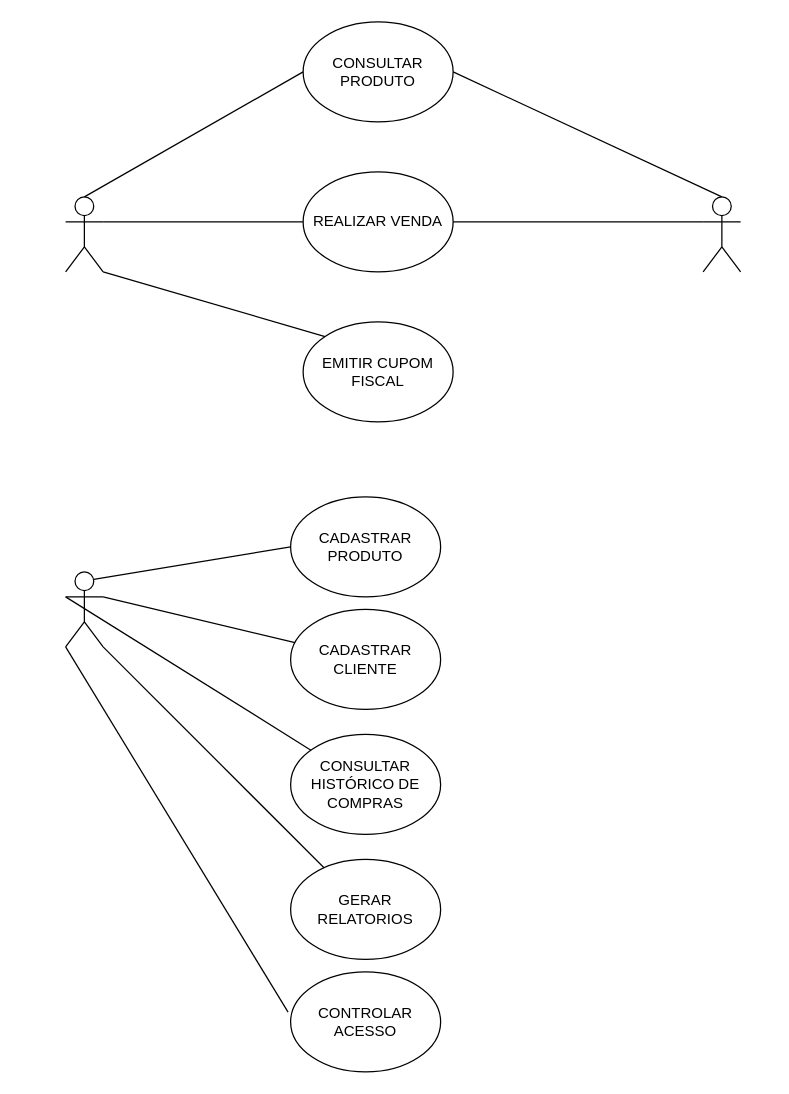
Image size: 789x1094. Some labels were removed from this diagram. The shapes that lost their labels are listed below. From the top down, each one's box as (x1, y1, x2, y2) in pixels, then its label:
(64, 196, 103, 272): CLIENTE
(702, 196, 741, 272): ATENDENTE
(64, 571, 103, 647): ADMINISTRADOR
